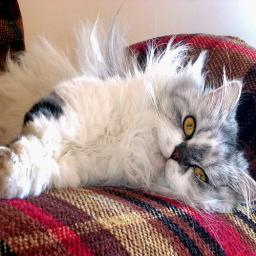catnose: (171, 145, 181, 165)
